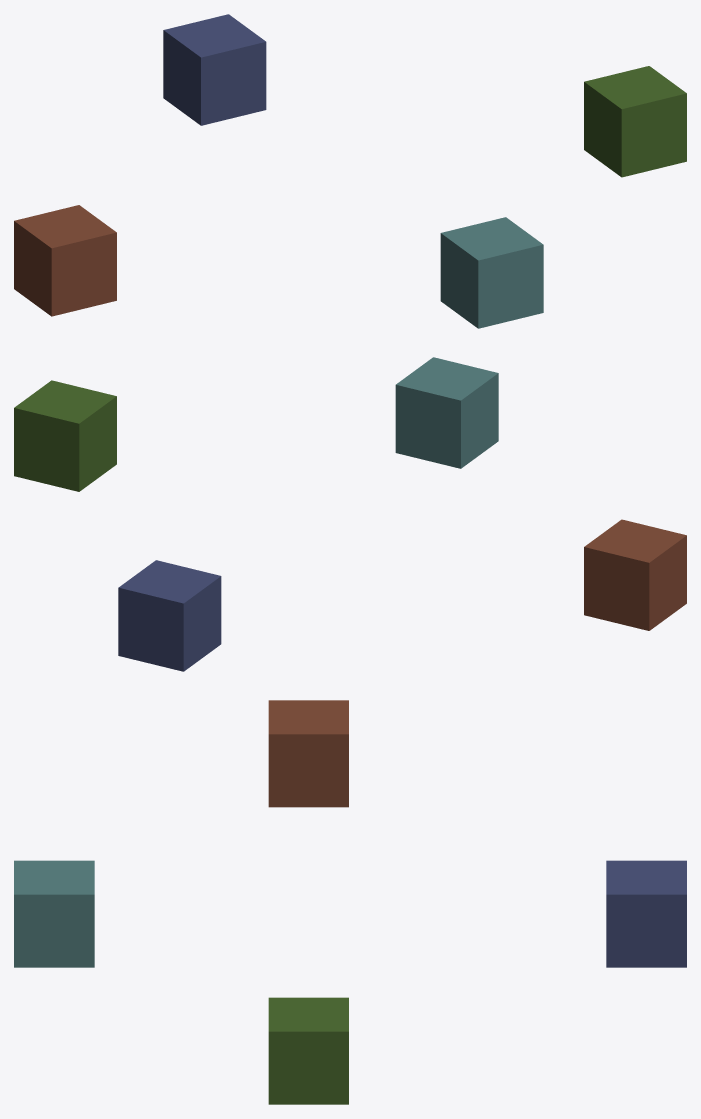
File: matBox.fbx
3 views of the same model, one above another, from view 1: azimuth 30°, elevation 25°; view 2: azimuth 150°, elevation 25°; view 3: azimuth 270°, elevation 25° (orthographic). The views are drawn at different scales.
Parts seen in each view (by area): view 1: pCube4, pCube3, pCube2, pCube1; view 2: pCube4, pCube3, pCube1, pCube2; view 3: pCube3, pCube4, pCube1, pCube2.
Part boxes in pixels (left/top/right/bottom): pCube4: left=440, top=217, right=543, bottom=328; pCube3: left=163, top=14, right=266, bottom=125; pCube2: left=14, top=205, right=116, bottom=316; pCube1: left=584, top=66, right=686, bottom=177; pCube4: left=395, top=357, right=498, bottom=468; pCube3: left=118, top=560, right=221, bottom=671; pCube1: left=14, top=380, right=116, bottom=491; pCube2: left=584, top=519, right=686, bottom=630; pCube3: left=606, top=860, right=686, bottom=967; pCube4: left=14, top=860, right=94, bottom=967; pCube1: left=268, top=997, right=348, bottom=1104; pCube2: left=268, top=700, right=348, bottom=807.
Bounding box in the file's own units: 9.74 × 1 × 8.36.
